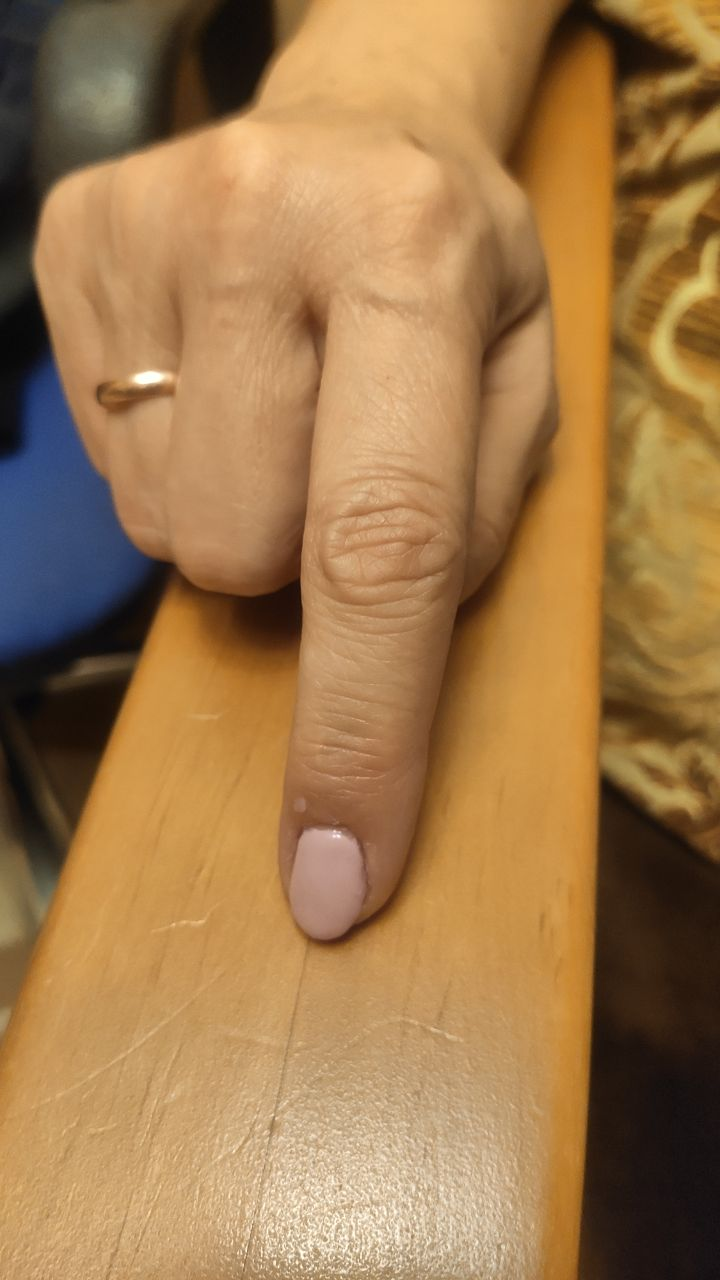finger: (276, 765, 414, 927)
